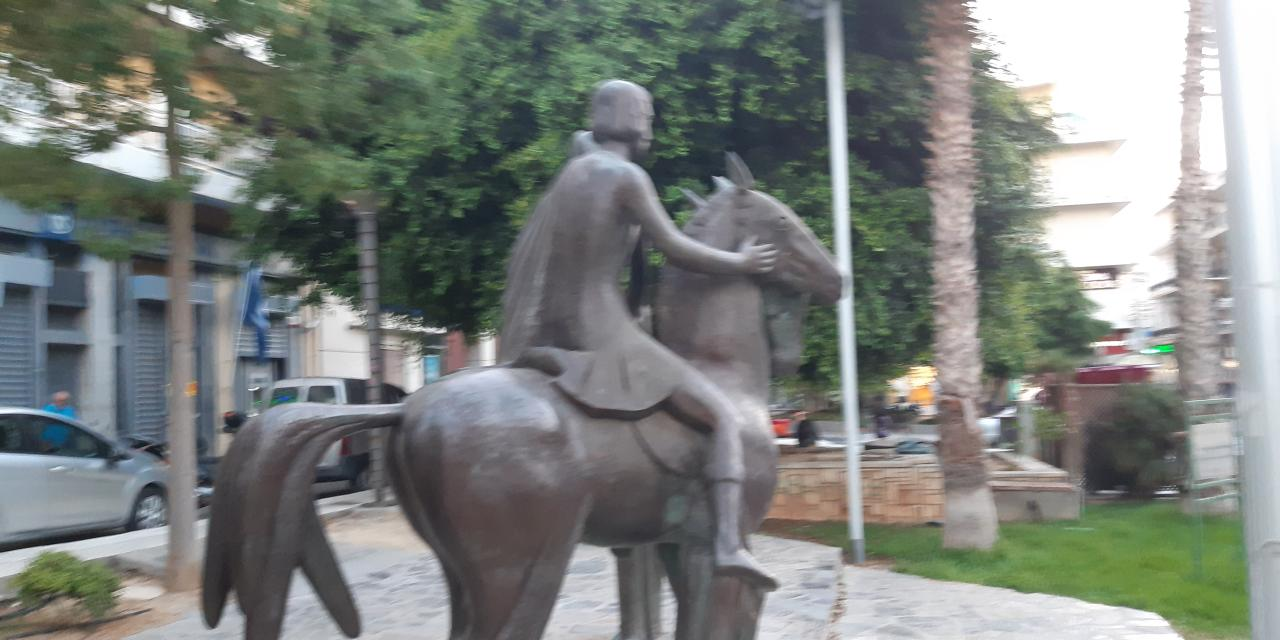Aretousa: (200, 81, 843, 640)
